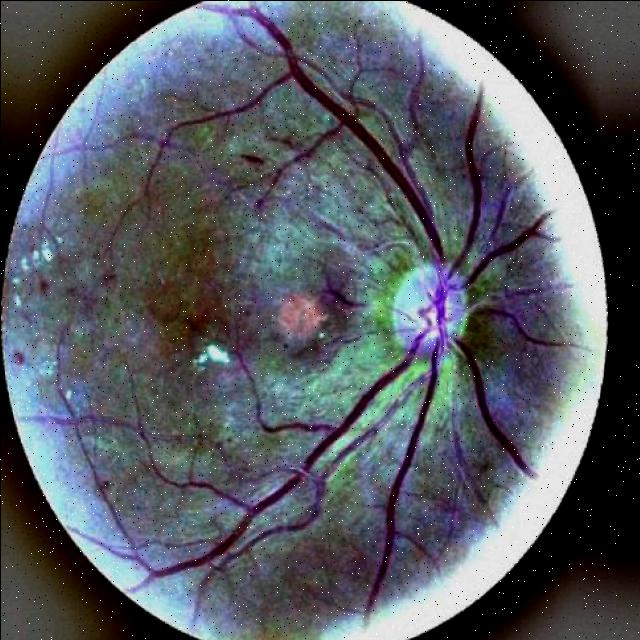Macula: (160, 276, 329, 362)
Nerves: (164, 14, 525, 626)
Optic Disk: (368, 246, 504, 384)
